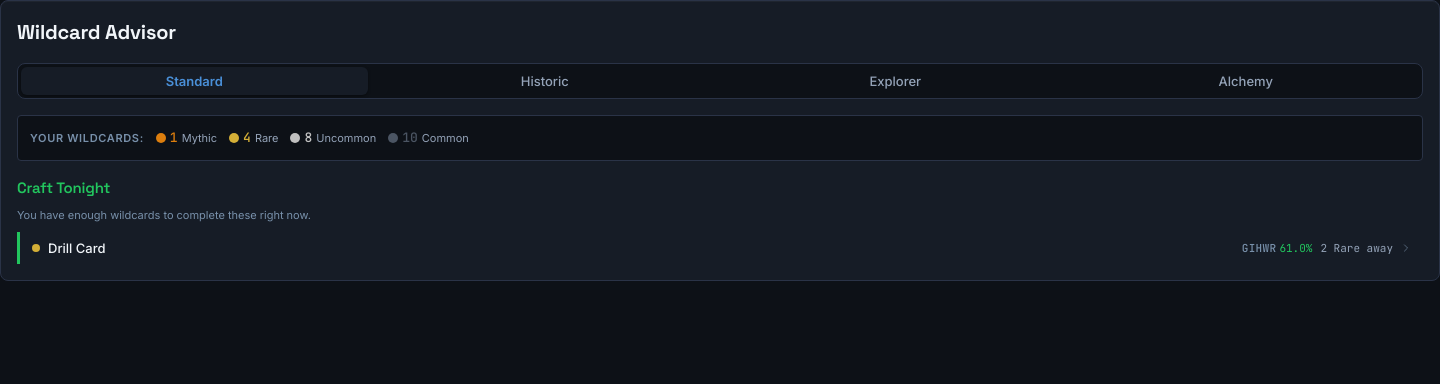
it: WildcardAdvisorPanel › State 2 — data with recommendations › drill-down expands on click to show missing-cards detail
Click the text "Drill Card": (77, 248) [48,240,106,256]
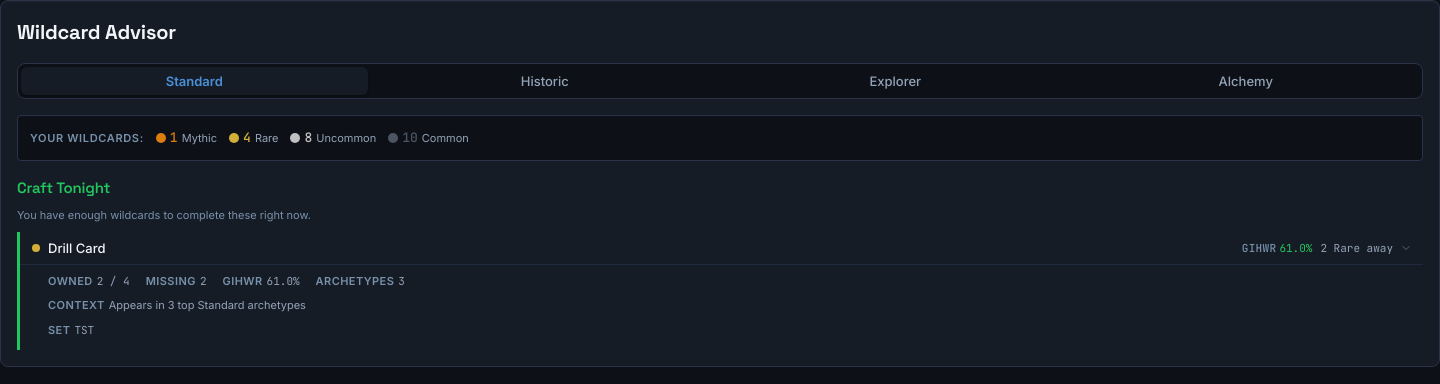
Expected: the element with test id "wildcard-advisor-drill-down" is shown, [20,264,1423,350]
